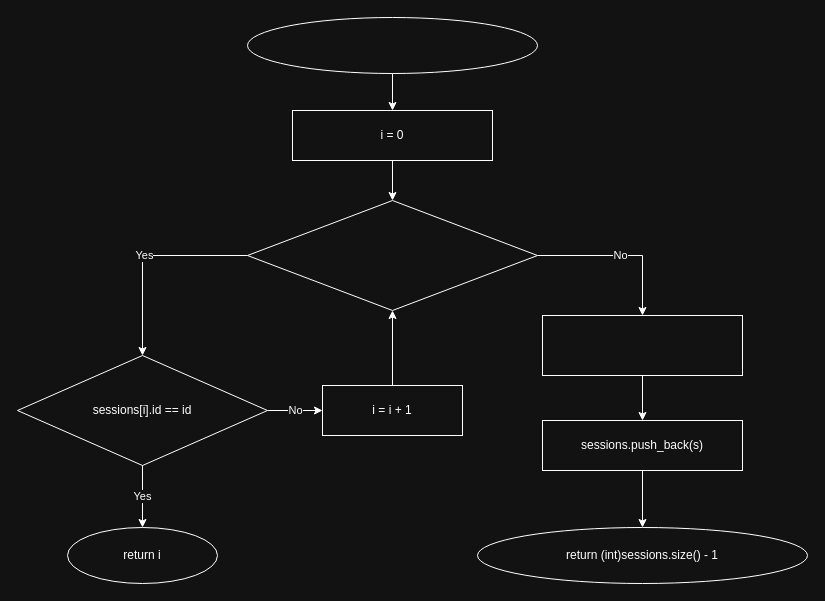
The diagram is 825 pixels wide and 601 high, and some of its shapes have lost their labels. Here are the shapes that lost their labels. From the top down, the box of each, then its label:
(246, 16, 538, 74): findOrCreateSession(sessions, id)
(246, 200, 538, 310): i < (int)sessions.size()
(542, 314, 742, 376): Session s s.id = id
